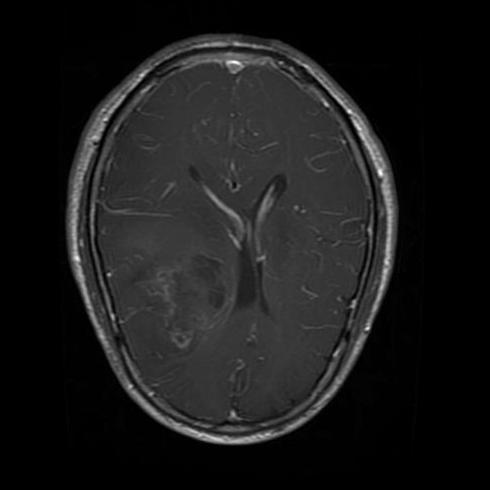Tumour-Glioma: (137, 241, 265, 353)
